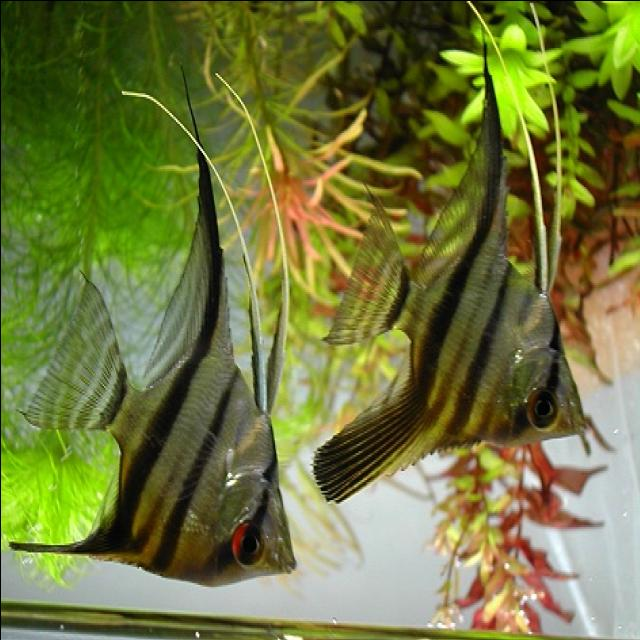AngelFish: (6, 68, 300, 590), (312, 6, 586, 502)
